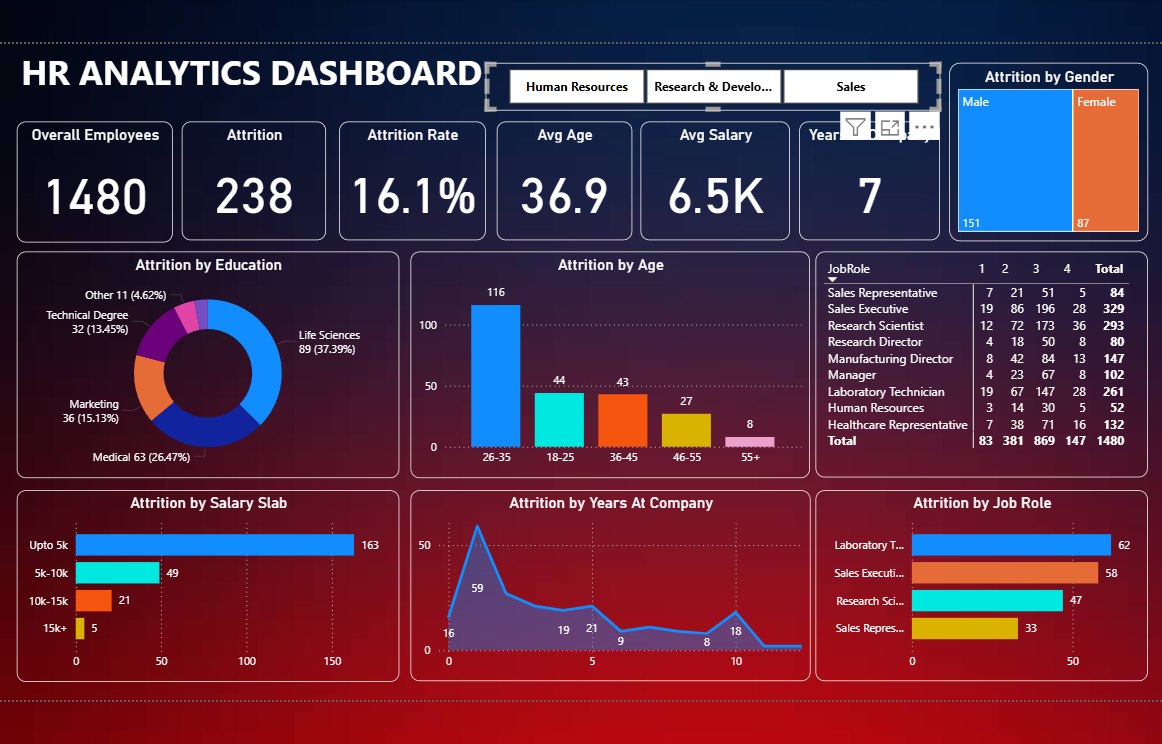

The dashboard page shown, as its layout file describes it:
{"tool":"powerbi","page":{"name":"Page 1","canvas":[1280,720],"ordinal":0},"visuals":[{"type":"card","title":"Avg Age","fields":{"Values":["Avg(HR_Analytics.Age)"]},"box":[547.1,85.7,148.6,130],"z":0},{"type":"card","title":"Overall Employees","fields":{"Values":["CountNonNull(HR_Analytics.EmployeeCount)"]},"box":[20,85.7,171.4,132.9],"z":1000},{"type":"card","title":"Avg Salary","fields":{"Values":["Avg(HR_Analytics.MonthlyIncome)"]},"box":[705.7,85.7,164.3,130],"z":2000},{"type":"card","title":"Years at Company","fields":{"Values":["Avg(HR_Analytics.YearsAtCompany)"]},"box":[880,85.7,154.3,130],"z":3000},{"type":"card","title":"Attrition","fields":{"Values":["CountNonNull(HR_Analytics.Attrition)"]},"box":[201.4,85.7,158.6,130],"z":4000},{"type":"card","title":"Attrition Rate","fields":{"Values":["HR_Analytics.Attrition Rate"]},"box":[374.6,85.1,160.5,130.4],"z":5000},{"type":"donutChart","title":"Attrition by Education","fields":{"Category":["HR_Analytics.EducationField"],"Y":["CountNonNull(HR_Analytics.Attrition)"]},"box":[20,227.1,420,248.6],"z":6000},{"type":"columnChart","title":"Attrition by Age","fields":{"Category":["HR_Analytics.AgeGroup"],"Y":["CountNonNull(HR_Analytics.Attrition)"]},"box":[452.9,227.1,438.6,248.6],"z":7000},{"type":"pivotTable","fields":{"Rows":["HR_Analytics.JobRole"],"Columns":["HR_Analytics.JobInvolvement"],"Values":["CountNonNull(HR_Analytics.JobRole)"]},"box":[897.4,227.8,365,248.4],"z":8000},{"type":"barChart","title":"Attrition by Salary Slab","fields":{"Y":["CountNonNull(HR_Analytics.Attrition)"],"Category":["HR_Analytics.SalarySlab"]},"box":[20,490,420,210],"z":9000},{"type":"stackedAreaChart","title":"Attrition by Years At Company","fields":{"Category":["HR_Analytics.YearsAtCompany"],"Y":["CountNonNull(HR_Analytics.Attrition)"]},"box":[452.8,489.9,439.1,209.9],"z":10000},{"type":"barChart","title":"Attrition by Job Role","fields":{"Category":["HR_Analytics.JobRole"],"Y":["CountNonNull(HR_Analytics.Attrition)"]},"box":[897.4,489.9,365,209.9],"z":11000},{"type":"treemap","title":"Attrition by Gender","fields":{"Group":["HR_Analytics.Gender"],"Values":["CountNonNull(HR_Analytics.Attrition)"]},"box":[1044.3,20,218.6,195.7],"z":12000},{"type":"slicer","fields":{"Values":["HR_Analytics.Department"]},"box":[535.2,20.6,499.5,52.1],"z":13000},{"type":"textbox","box":[20.6,0,526.9,72.7],"z":14000}]}

Visuals, with their boxes in screenshot pixels (x1, y1, x2, y2):
"Avg Age" card: BBox(499, 128, 632, 245)
"Overall Employees" card: BBox(27, 128, 180, 247)
"Avg Salary" card: BBox(641, 128, 788, 245)
"Years at Company" card: BBox(797, 128, 935, 245)
"Attrition" card: BBox(189, 128, 331, 245)
"Attrition Rate" card: BBox(344, 128, 488, 244)
"Attrition by Education" donutChart: BBox(27, 255, 403, 477)
"Attrition by Age" columnChart: BBox(415, 255, 807, 477)
pivotTable - HR_Analytics.JobRole x HR_Analytics.JobInvolvement: BBox(812, 255, 1139, 478)
"Attrition by Salary Slab" barChart: BBox(27, 490, 403, 678)
"Attrition by Years At Company" stackedAreaChart: BBox(414, 490, 808, 678)
"Attrition by Job Role" barChart: BBox(812, 490, 1139, 678)
"Attrition by Gender" treemap: BBox(944, 69, 1140, 245)
slicer - HR_Analytics.Department: BBox(488, 70, 935, 117)
textbox: BBox(28, 51, 499, 117)
